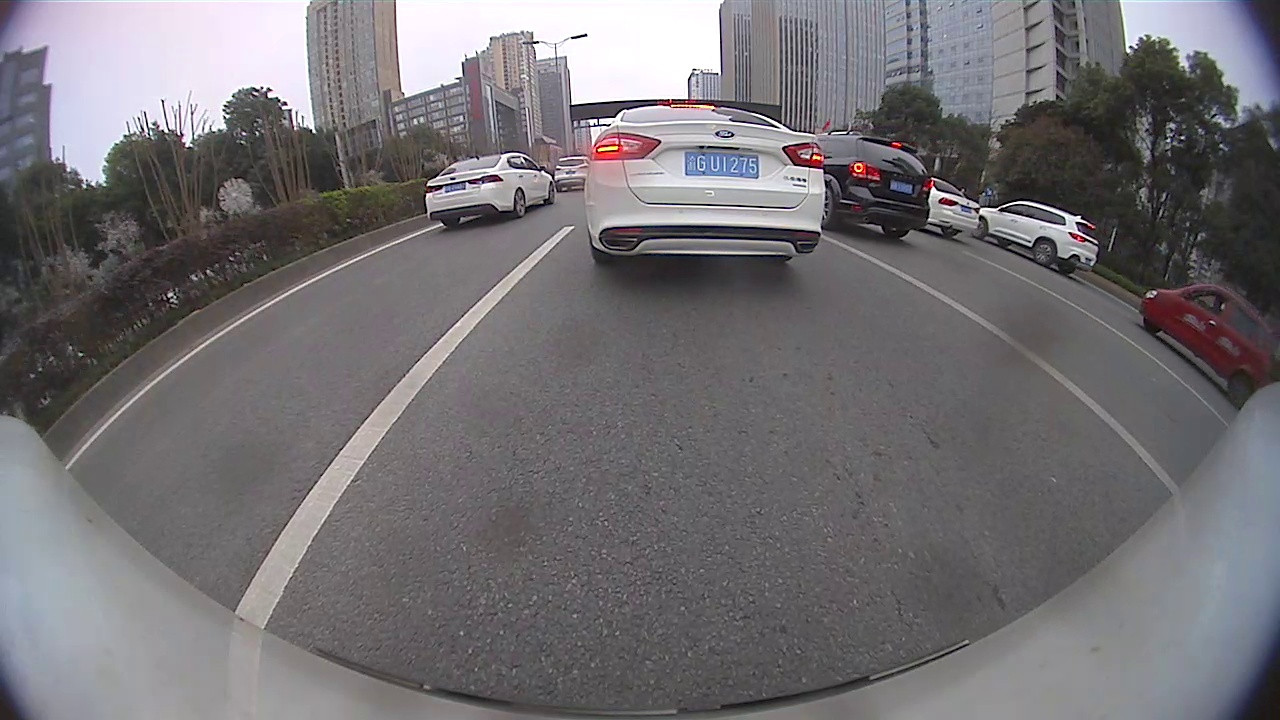car: (582, 102, 825, 268), (1138, 281, 1279, 408), (811, 130, 932, 239), (424, 151, 557, 228), (970, 199, 1100, 277), (926, 176, 981, 239), (555, 159, 589, 187)
rear: (1224, 370, 1263, 406), (1032, 235, 1057, 267), (514, 184, 528, 215)
